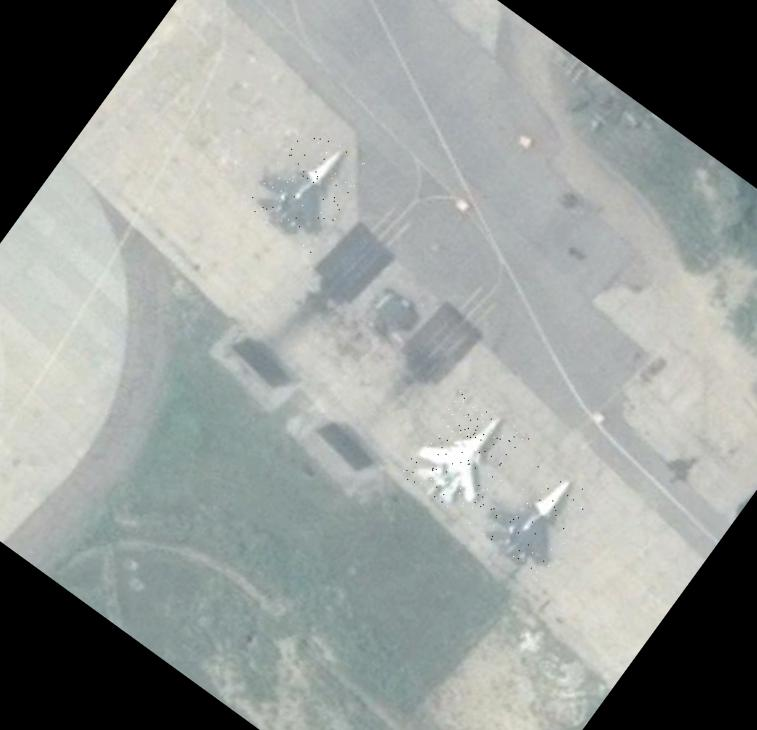A19: (399, 386, 533, 524), (469, 449, 600, 585), (242, 119, 372, 253)
